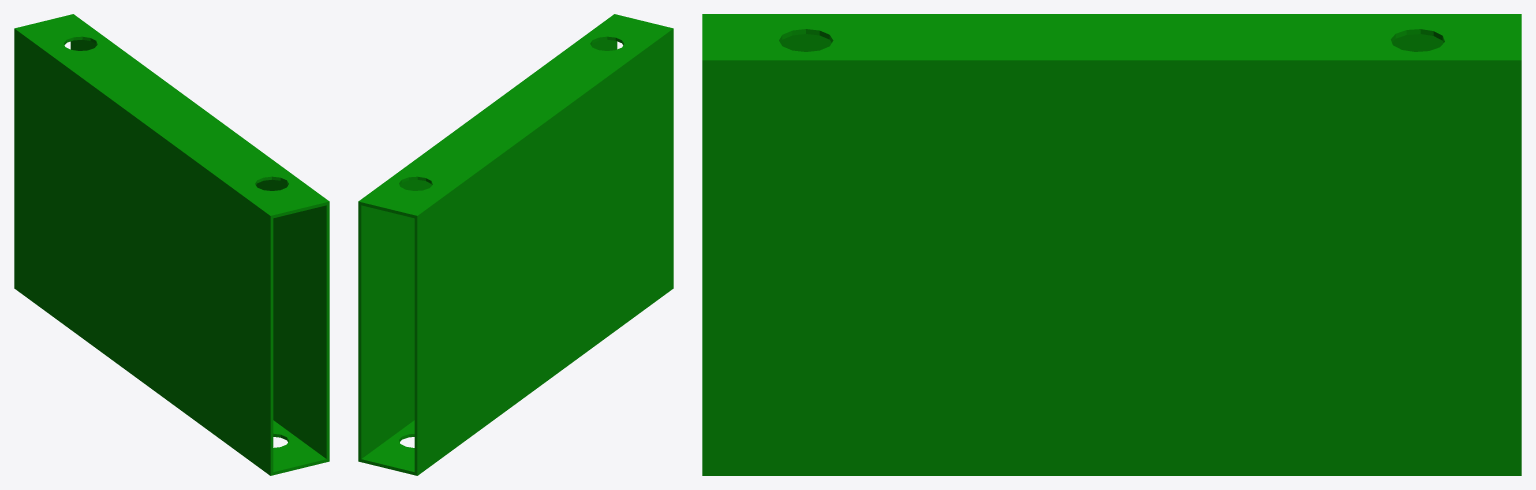
The model's file is body-parts-c.dae.
3 renders of one model, left to right at view 1: azimuth 30°, elevation 25°; view 2: azimuth 150°, elevation 25°; view 3: azimuth 270°, elevation 25°, orthographic. The views are drawn at different scales.
Visible parts, largest first — view 1: eus_glvertices; view 2: eus_glvertices; view 3: eus_glvertices.
Part boxes in pixels (x1=…): eus_glvertices: x1=14, y1=14, x2=329, y2=475; eus_glvertices: x1=358, y1=14, x2=673, y2=475; eus_glvertices: x1=702, y1=14, x2=1521, y2=475.
Bounding box in the file's own units: 0.04 × 0.168 × 0.3.
